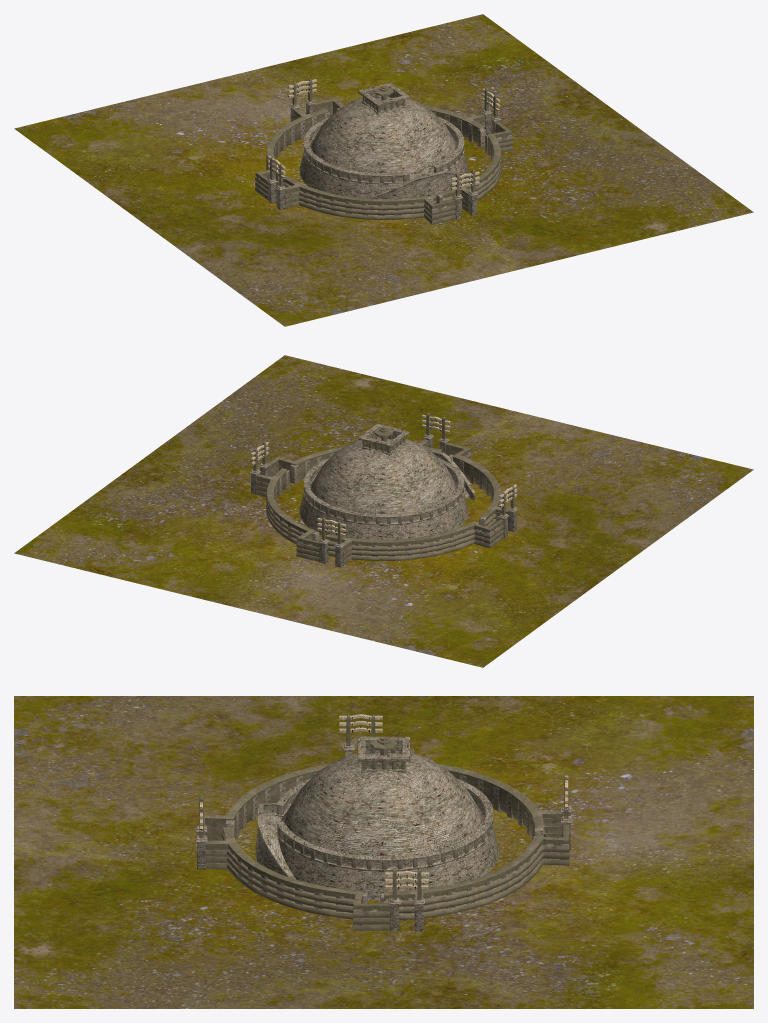
File: great_stupa_in_sanchi2.glb
3 renders of one model, top to bottom at view 1: azimuth 30°, elevation 25°; view 2: azimuth 150°, elevation 25°; view 3: azimuth 270°, elevation 25°, orthographic. The views are drawn at different scales.
Visible parts, largest first — view 1: Plane_3, Sphere_0, Sphere.002_2, Sphere.001_1, Cube.001_7, Cube_5, Cube.007_14, Cube.004_9, Cube.006_12; view 2: Plane_3, Sphere.002_2, Sphere_0, Sphere.001_1, Cube.001_7, Cube_5, Cube.007_14, Cube.004_9, Cube.006_12; view 3: Plane_3, Sphere.002_2, Sphere_0, Sphere.001_1, Cube_5, Cube.001_7, Cube.004_9, Cube.007_14, Cube.006_12, Cube.002_8.
Boxes of the visible parts, x1,y1,x2,y2 form: Plane_3: (14, 14, 753, 326); Sphere_0: (311, 96, 456, 179); Sphere.002_2: (255, 98, 512, 224); Sphere.001_1: (299, 116, 471, 203); Cube.001_7: (256, 100, 511, 220); Cube_5: (268, 108, 500, 216); Cube.007_14: (267, 79, 500, 190); Cube.004_9: (358, 83, 409, 114); Cube.006_12: (270, 78, 497, 196); Plane_3: (14, 355, 753, 667); Sphere.002_2: (256, 439, 508, 564); Sphere_0: (311, 437, 456, 514); Sphere.001_1: (299, 448, 475, 539); Cube.001_7: (249, 434, 518, 567); Cube_5: (267, 451, 494, 556); Cube.007_14: (251, 414, 516, 536); Cube.004_9: (358, 424, 409, 455); Cube.006_12: (253, 412, 514, 544); Plane_3: (14, 696, 753, 1008); Sphere.002_2: (198, 749, 569, 930); Sphere_0: (284, 753, 483, 856); Sphere.001_1: (255, 779, 499, 901); Cube_5: (225, 772, 543, 913); Cube.001_7: (195, 743, 572, 931); Cube.004_9: (357, 736, 410, 773); Cube.007_14: (199, 714, 568, 889); Cube.006_12: (199, 714, 568, 900); Cube.002_8: (278, 819, 493, 869).
Bounding box in the file's own units: 6.98 × 1.25 × 6.98.
4 materials, 4 textured.
